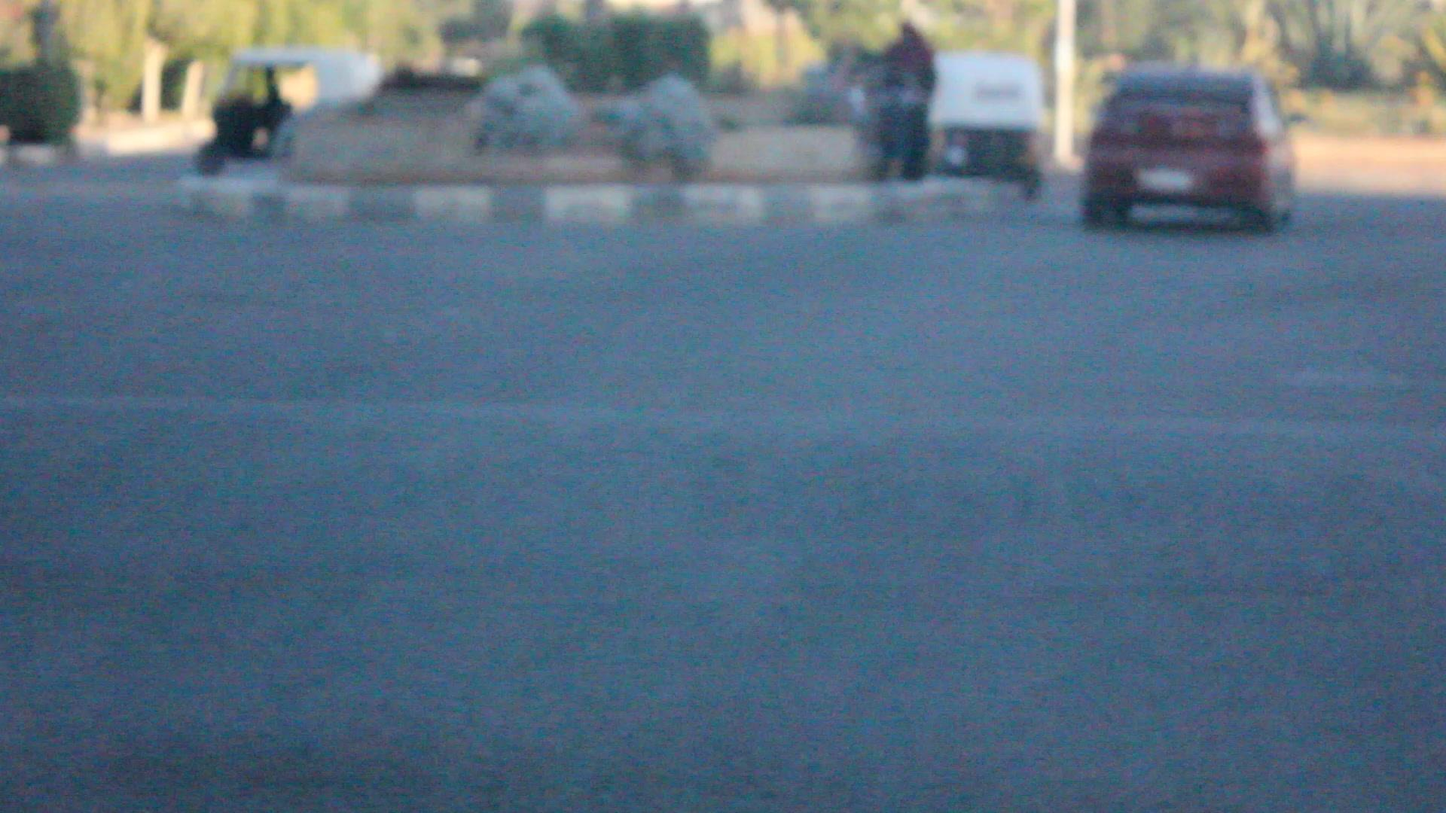Bump: (0, 380, 1446, 625)
